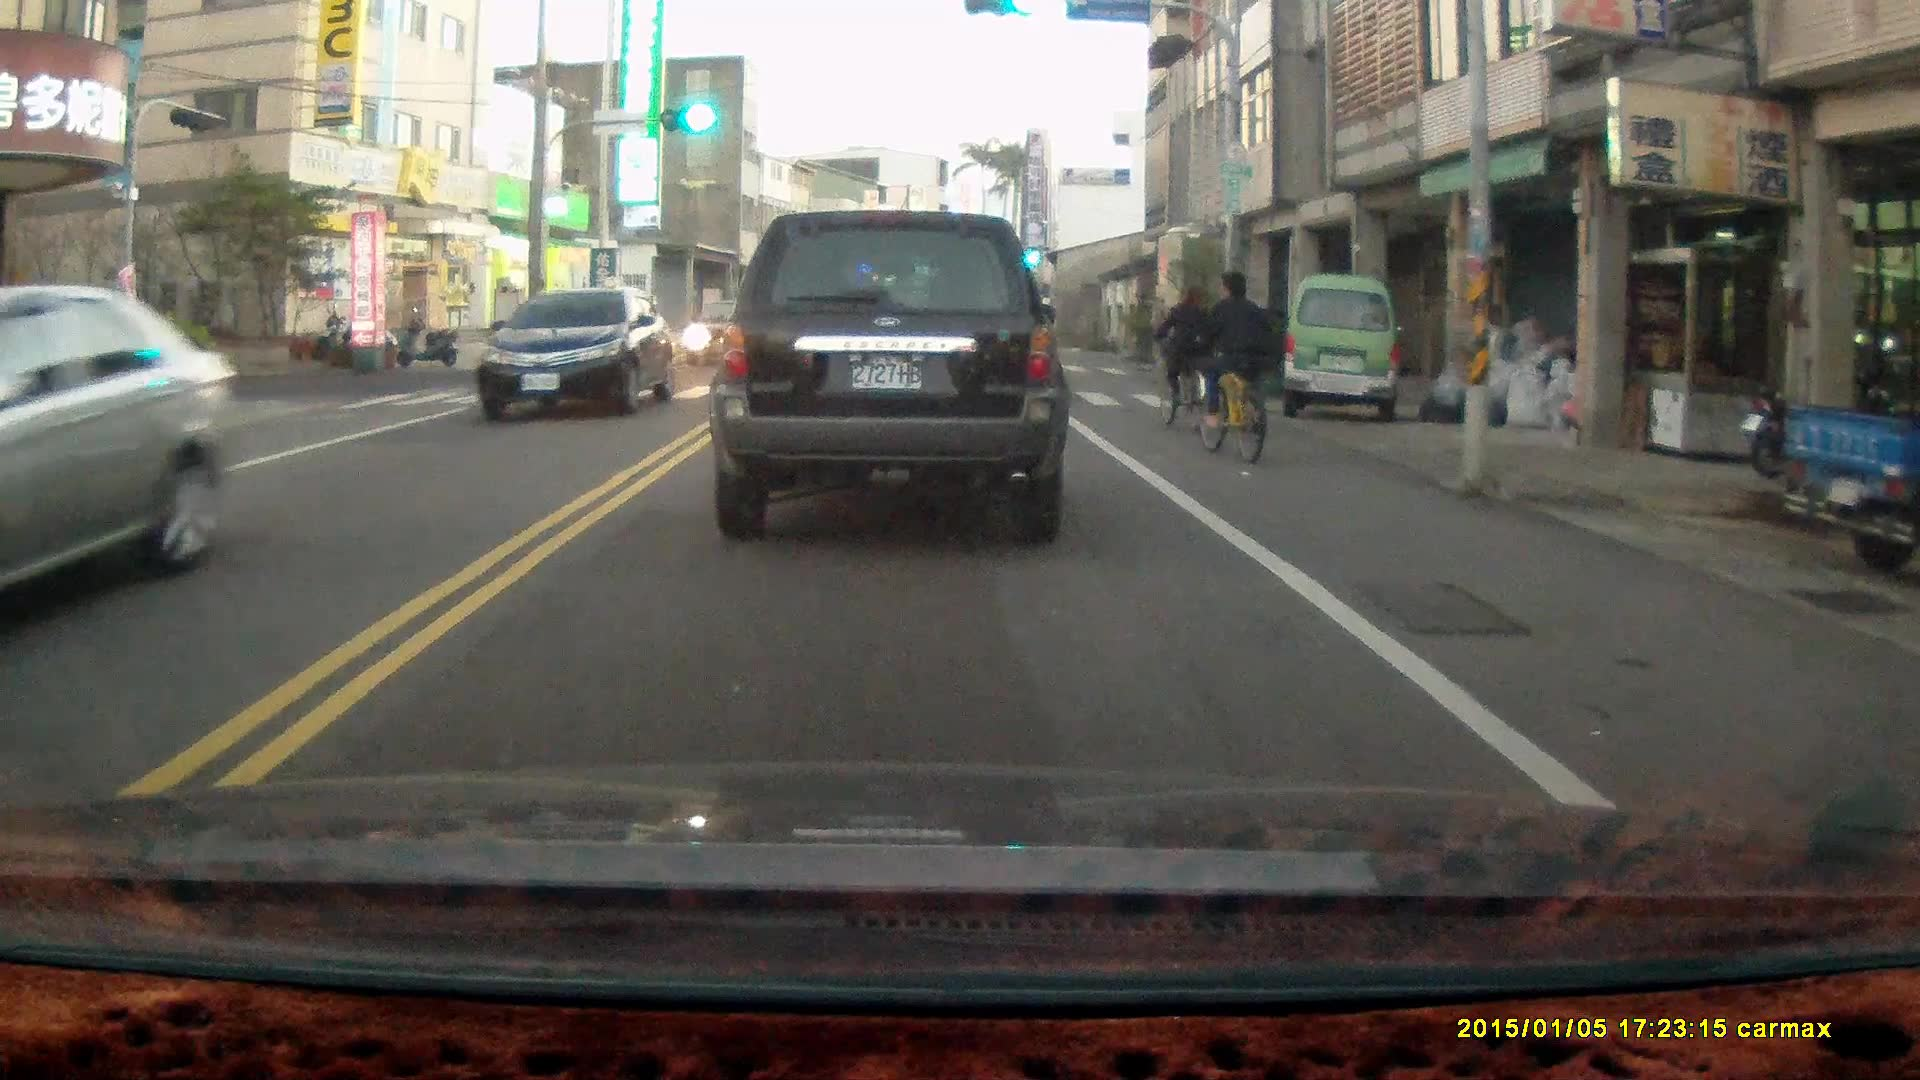rider: (1195, 268, 1270, 463), (1152, 277, 1220, 437)
vehicle: (715, 209, 1072, 540), (1, 282, 239, 641), (478, 282, 679, 424), (1282, 274, 1403, 427), (681, 299, 778, 369)
